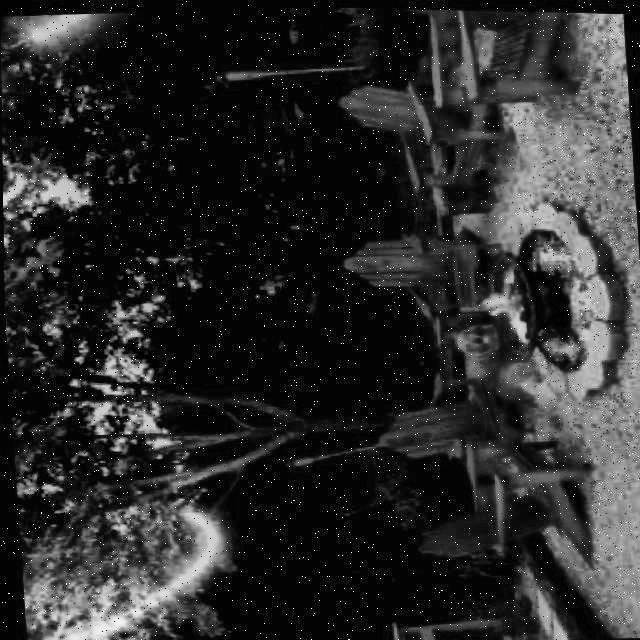Fire: (471, 282, 534, 330)
